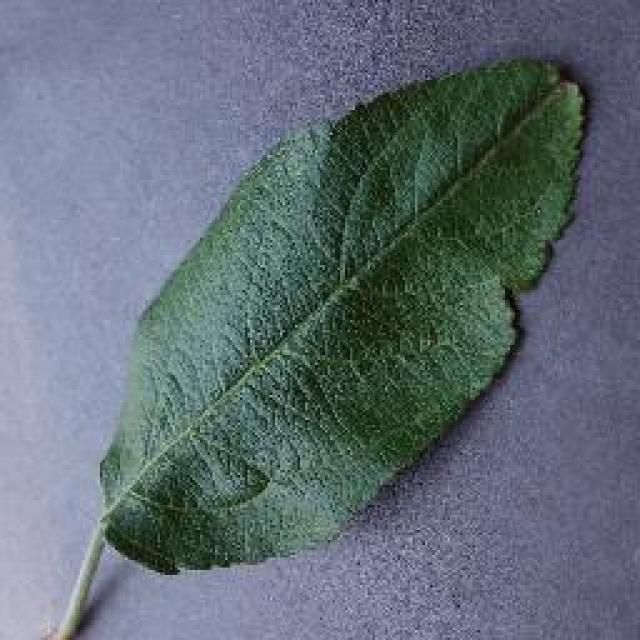apple healthy: (28, 52, 590, 638)
